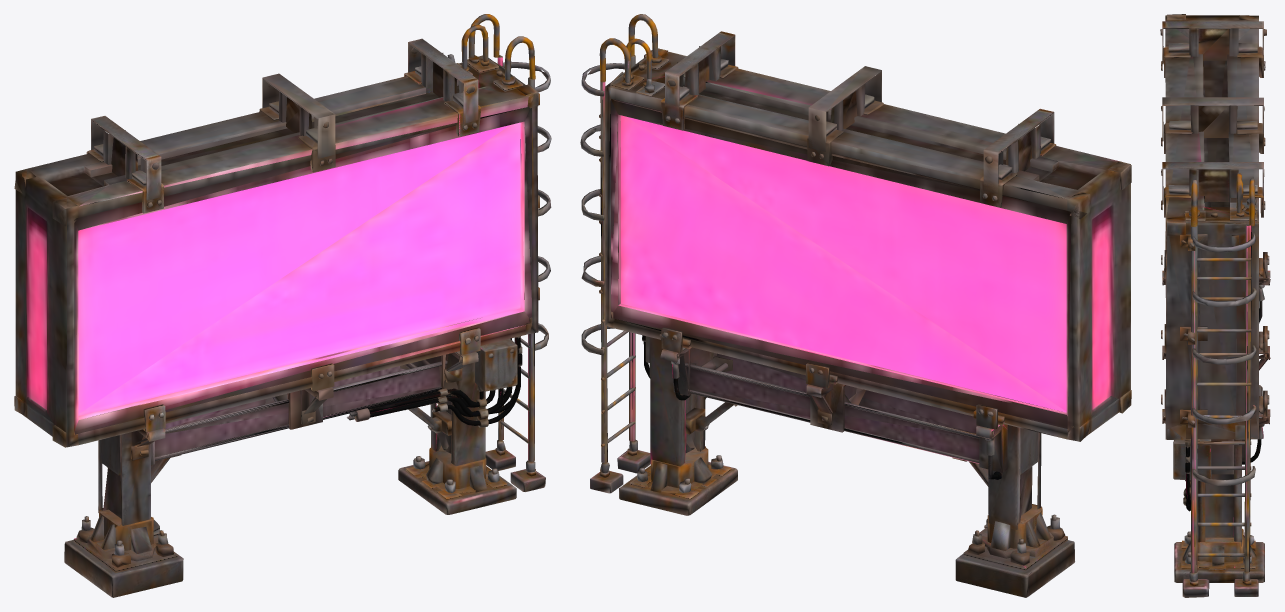
File: neon.glb
The picture shows the model from 3 angles, left to right: view 1: azimuth 30°, elevation 25°; view 2: azimuth 150°, elevation 25°; view 3: azimuth 270°, elevation 25°; orthographic projection. The views are drawn at different scales.
Parts seen in each view (by area): view 1: neon; view 2: neon; view 3: neon.
Part boxes in pixels (x1,y1,x2,y2): neon: [14, 14, 551, 597]; neon: [580, 14, 1131, 597]; neon: [1160, 14, 1270, 597].
Bounding box in the file's own units: 7 × 5.88 × 1.44.
Materials: 1 (1 with a texture image).
